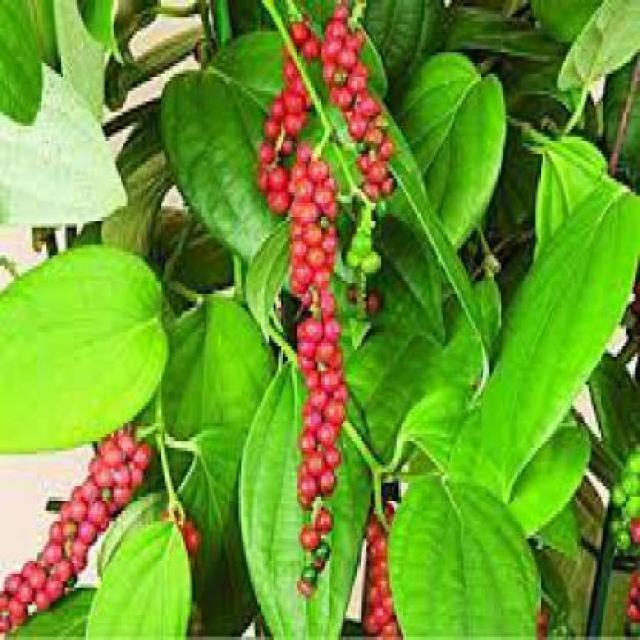RIPE: (2, 413, 151, 630), (279, 136, 348, 581), (313, 0, 404, 206), (260, 13, 309, 210)
